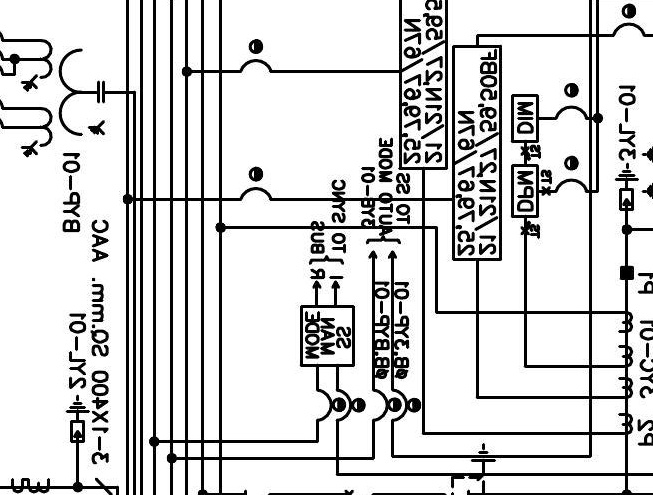115_cvt_3p: (20, 38, 105, 158)
115_la: (614, 162, 640, 211), (65, 394, 91, 443)
DIM: (511, 93, 540, 143)
DPM: (511, 163, 540, 218)
ss_man_mode: (299, 305, 356, 368)
